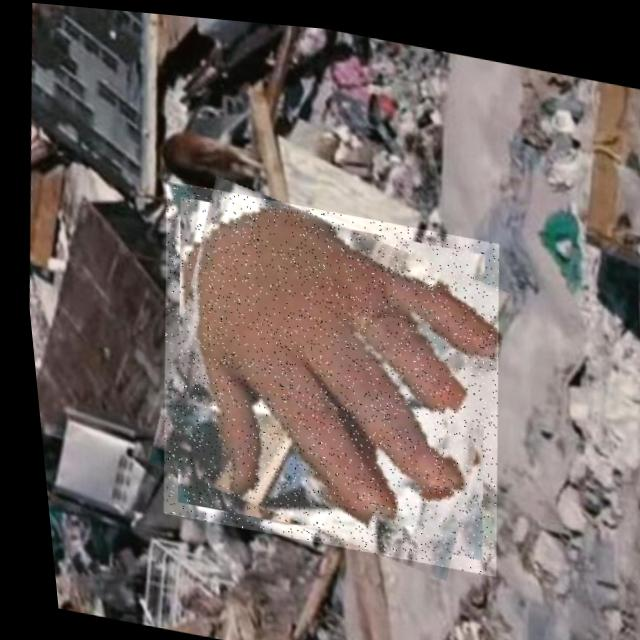Person in Rubble: (127, 174, 520, 570)
